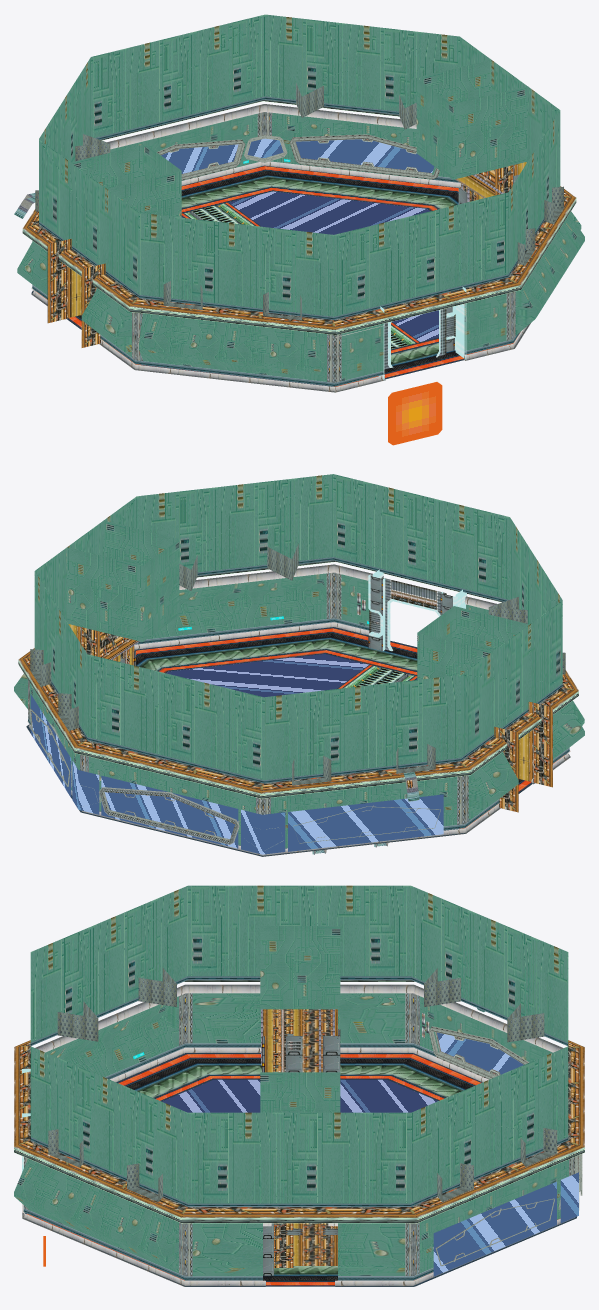
Rendered from TailsVsEggman2.obj.
3 renders of one model, top to bottom at view 1: azimuth 30°, elevation 25°; view 2: azimuth 150°, elevation 25°; view 3: azimuth 270°, elevation 25°, orthographic. The views are drawn at different scales.
Bounding box in the file's own units: 478 × 225 × 457.
Materials: 25 (25 with a texture image).
